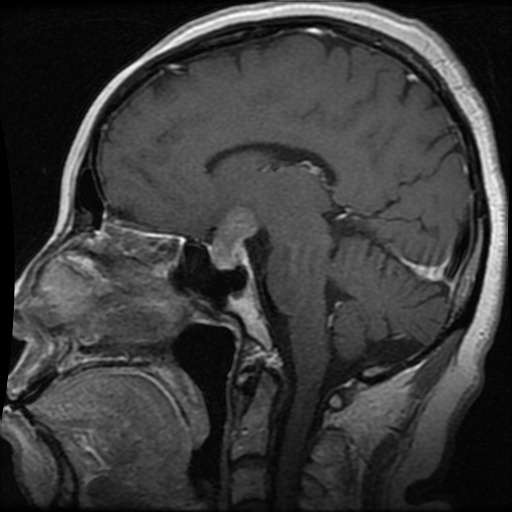pituitary: (208, 208, 256, 270)
